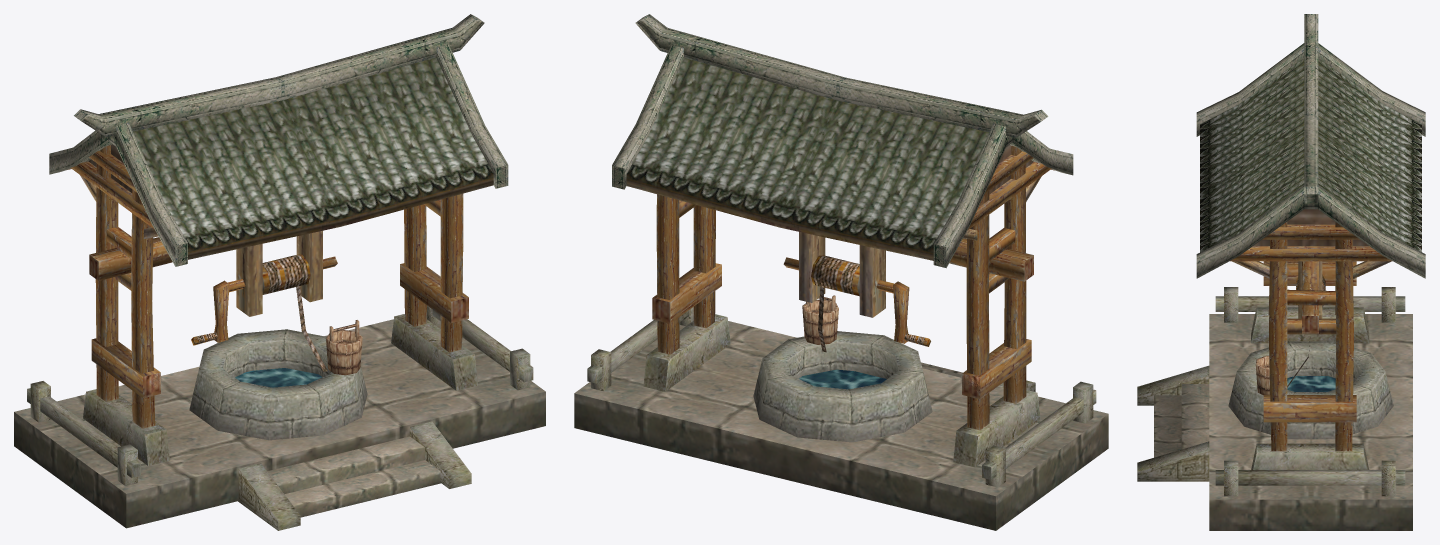
Rendered from Hangzhou_wj_038.FBX.
The picture shows the model from 3 angles, left to right: view 1: azimuth 30°, elevation 25°; view 2: azimuth 150°, elevation 25°; view 3: azimuth 270°, elevation 25°; orthographic projection. The views are drawn at different scales.
Parts seen in each view (by area): view 1: XWJ_大井002; view 2: XWJ_大井002; view 3: XWJ_大井002.
Part boxes in pixels (x1=…): XWJ_大井002: x1=14, y1=14, x2=545, y2=530; XWJ_大井002: x1=574, y1=14, x2=1108, y2=530; XWJ_大井002: x1=1137, y1=14, x2=1425, y2=530.
Bounding box in the file's own units: 155 × 132 × 102.
